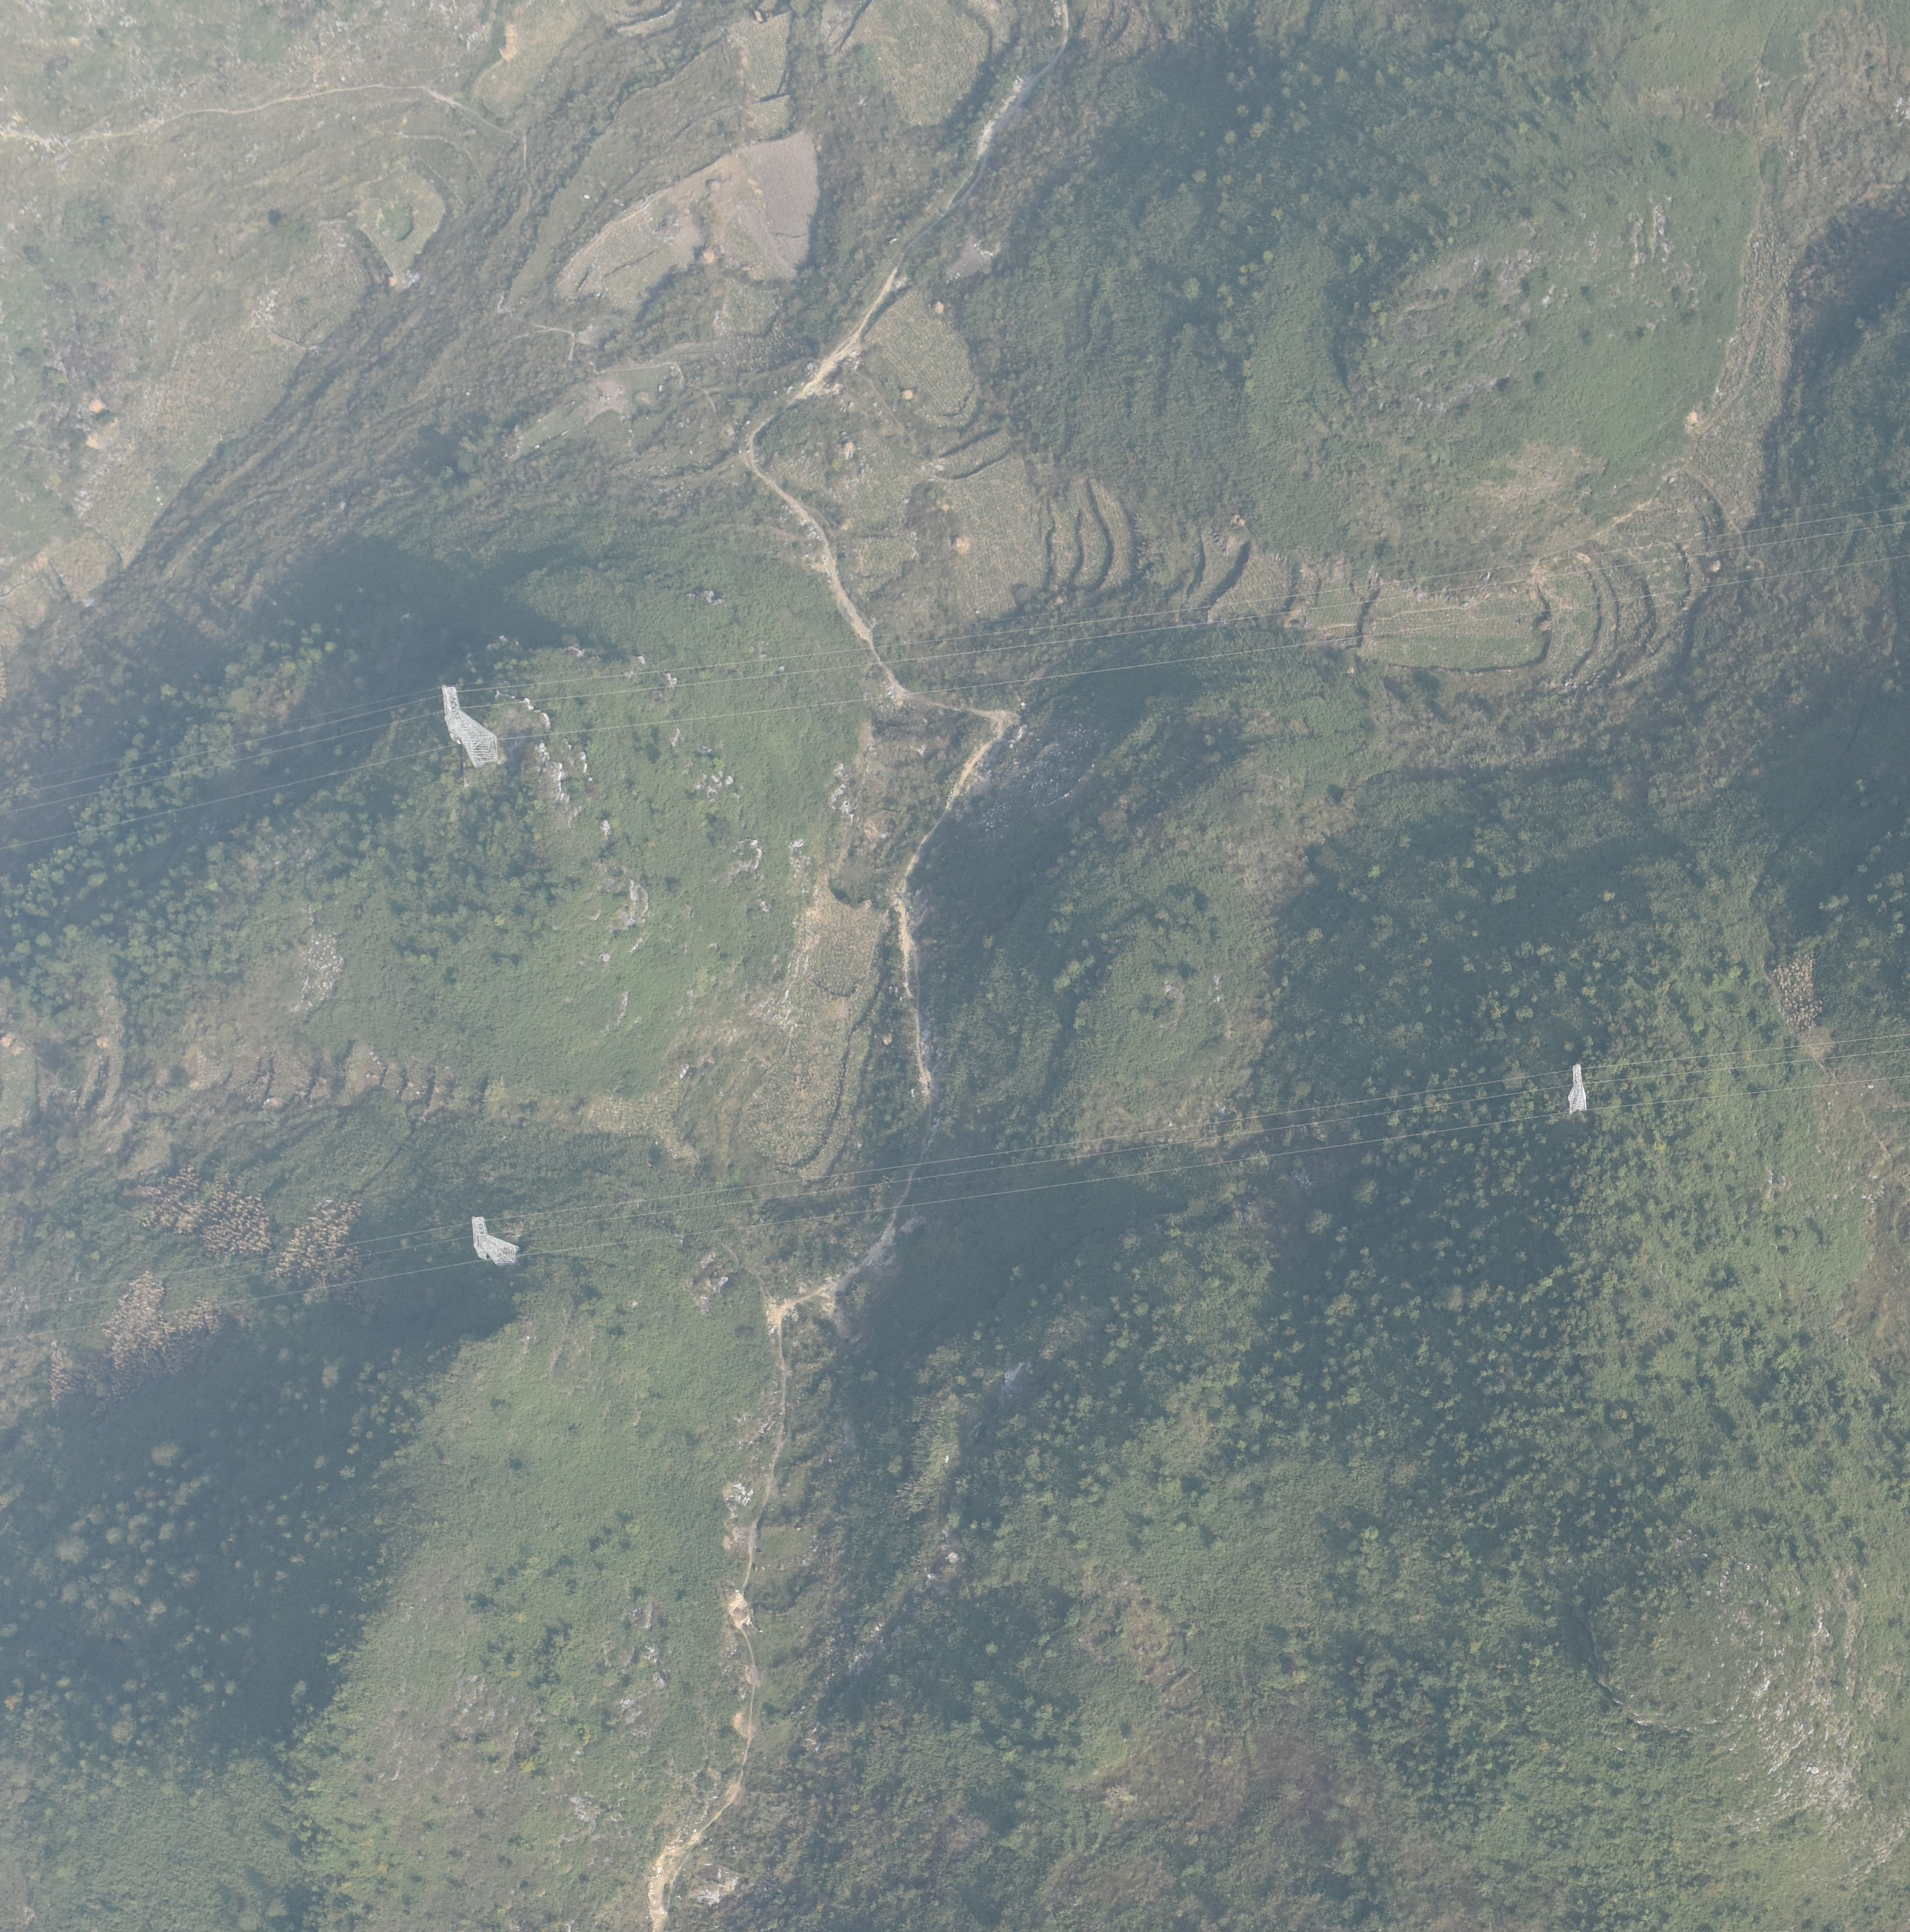cable-tower: (441, 685, 500, 766), (469, 1214, 519, 1266), (1567, 1063, 1587, 1112)
